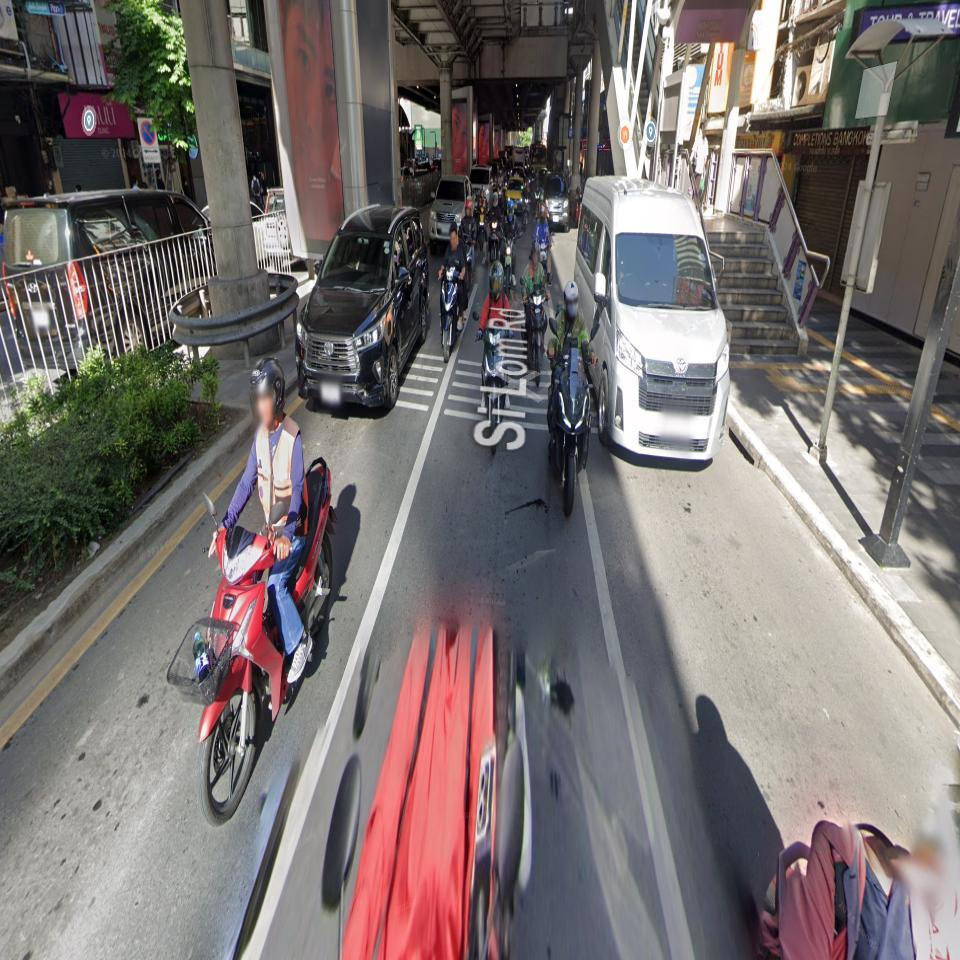signage: (675, 8, 749, 42)
